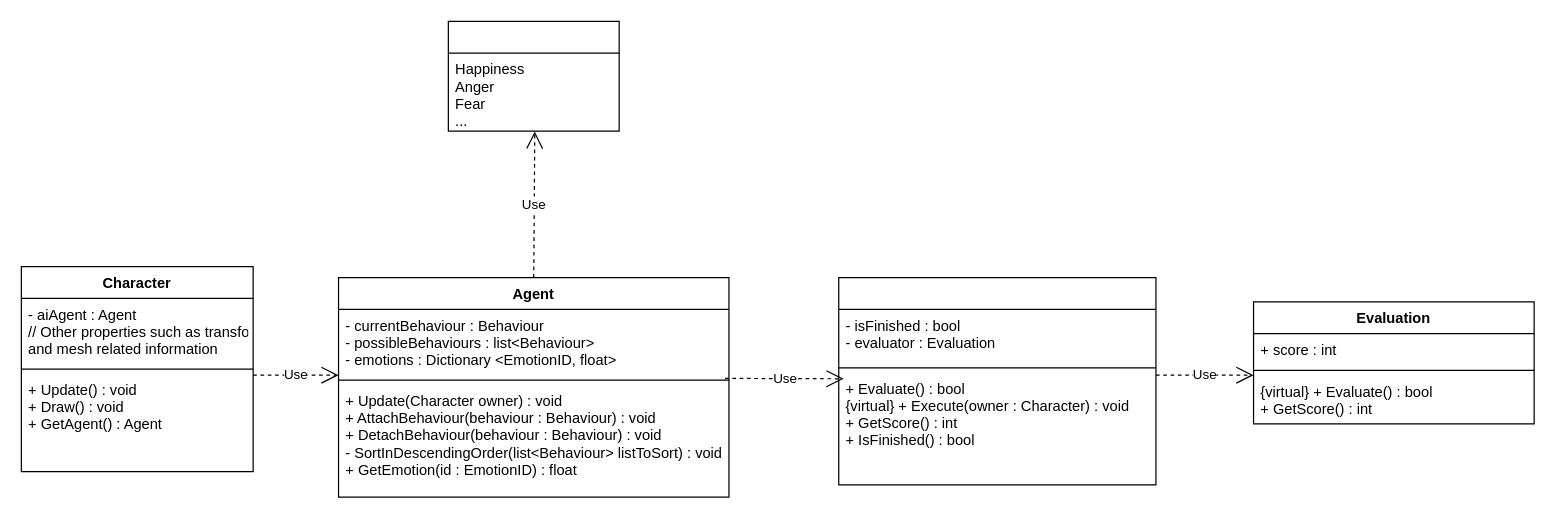
Image size: 1556x522. Some labels were removed from this diagram. The box of each missing label's shape, as (x1, y1, x2, y2) in pixels:
Behaviour: (838, 276, 1156, 485)
enum EmotionID: (447, 20, 619, 131)
